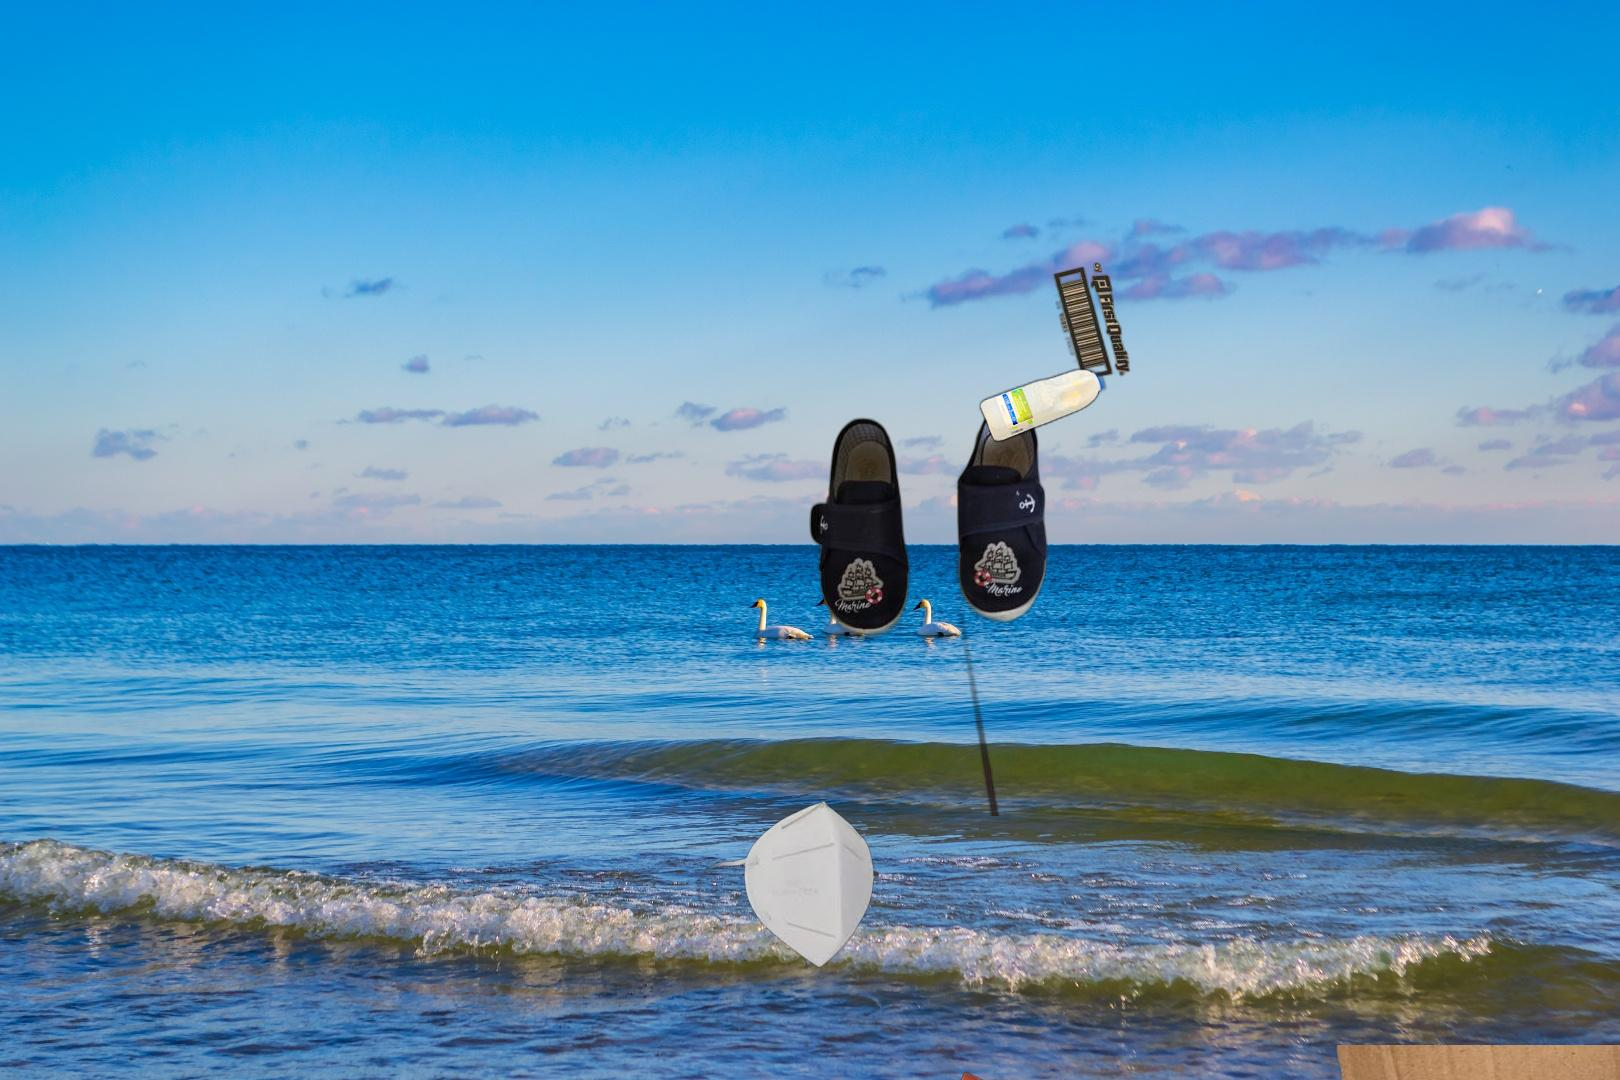plastic-bag: (906, 1068, 1031, 1080)
plastic-bottles: (975, 363, 1110, 447)
shoes: (808, 398, 1146, 816)
trash: (692, 798, 910, 997)
trashbox-cardboard: (1049, 248, 1499, 385), (1323, 1045, 1620, 1080)
